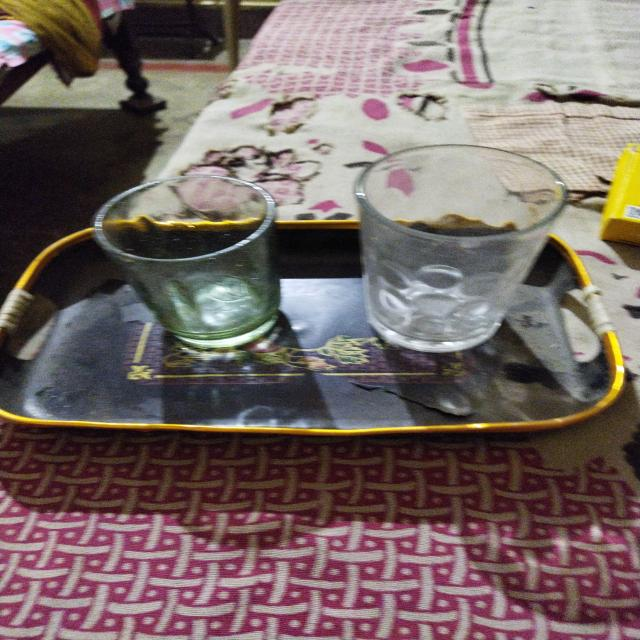Glass: (350, 139, 572, 357), (87, 171, 284, 352)
